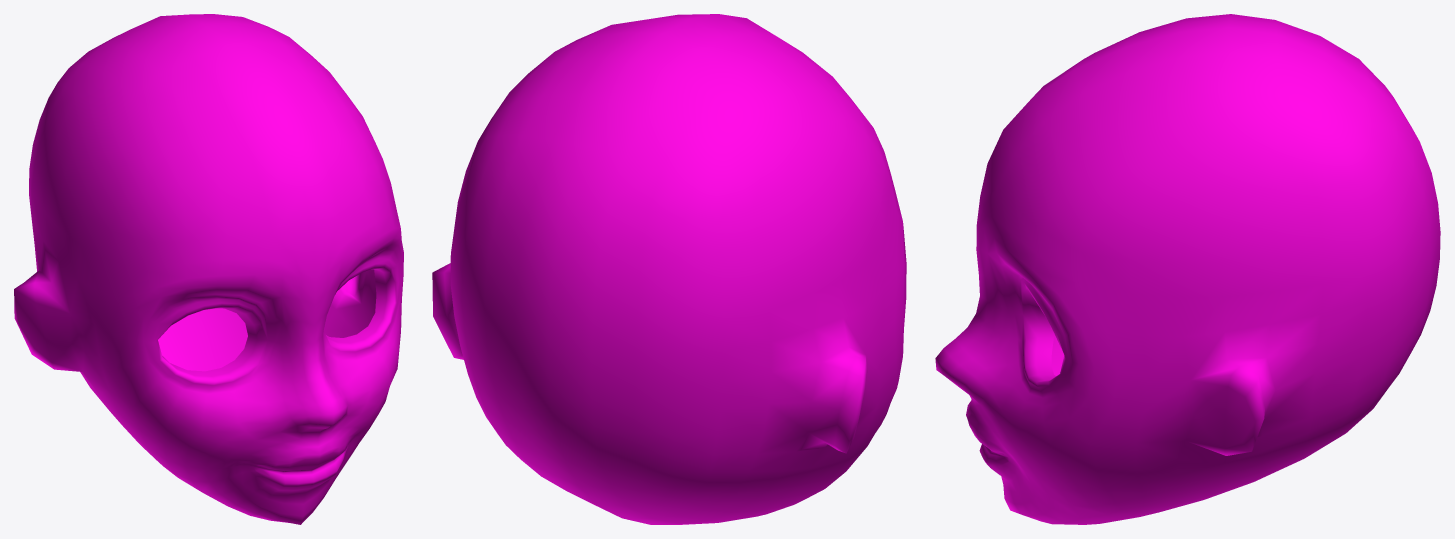
The model's file is Character.gltf.
3 renders of one model, left to right at view 1: azimuth 30°, elevation 25°; view 2: azimuth 150°, elevation 25°; view 3: azimuth 270°, elevation 25°, orthographic. The views are drawn at different scales.
Visible parts, largest first — view 1: Cube.001; view 2: Cube.001; view 3: Cube.001.
Boxes of the visible parts, bbox=[...] form: Cube.001: bbox=[14, 14, 403, 524]; Cube.001: bbox=[432, 14, 906, 524]; Cube.001: bbox=[935, 14, 1440, 524].
Size of the model in its own units: 0.2479 by 0.2912 by 0.2725.
